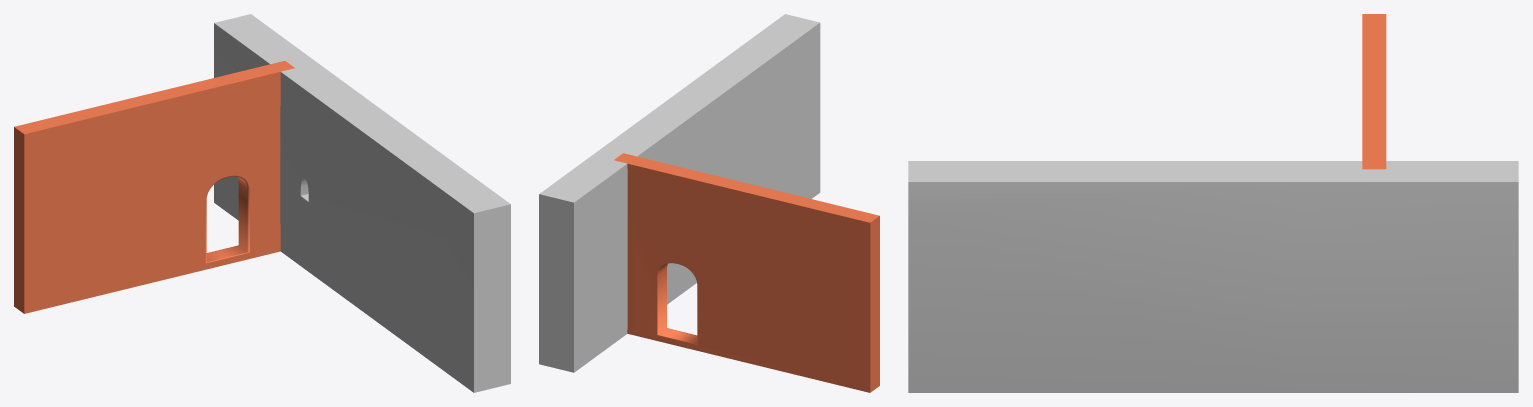
File: creamRoom.fbx
3 views of the same model, side by side, from view 1: azimuth 30°, elevation 25°; view 2: azimuth 150°, elevation 25°; view 3: azimuth 270°, elevation 25° (orthographic). The views are drawn at different scales.
Visible parts, largest first — view 1: backwall, wall_1; view 2: wall_1, backwall; view 3: backwall, wall_1.
Boxes of the visible parts, x1,y1,x2,y2 form: backwall: (214, 14, 510, 392); wall_1: (14, 61, 294, 313); wall_1: (614, 153, 879, 392); backwall: (539, 14, 820, 372); backwall: (908, 161, 1518, 392); wall_1: (1362, 14, 1386, 169).
Size of the model in its own units: 284 by 161 by 422.
